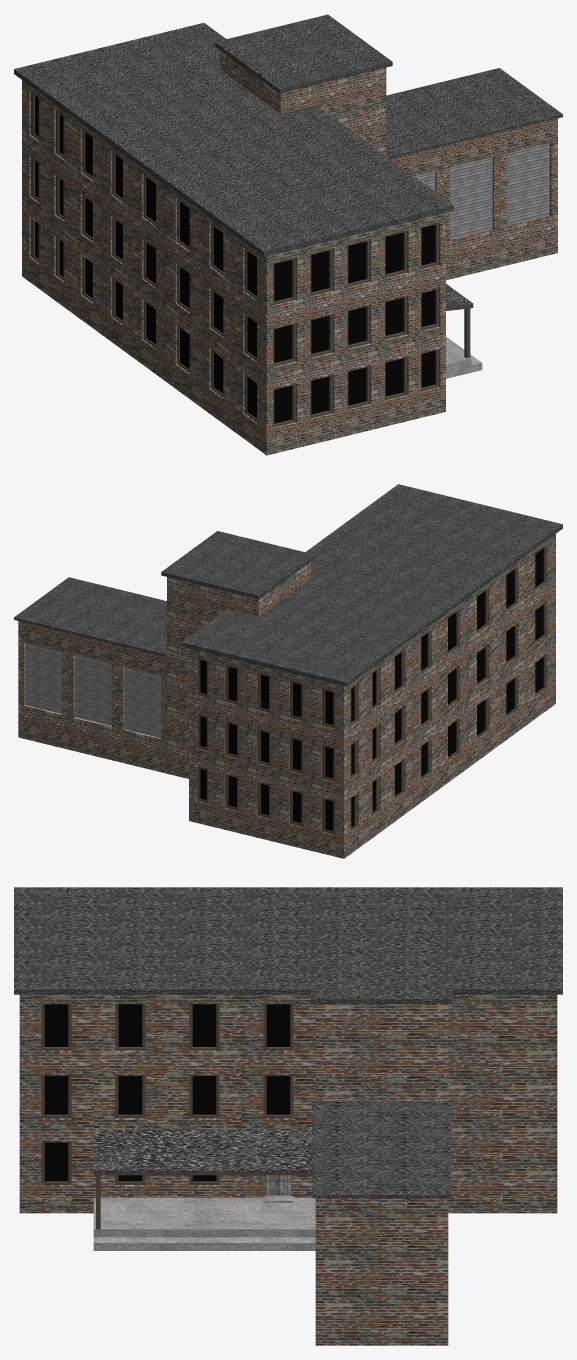
The picture shows the model from 3 angles, top to bottom: view 1: azimuth 30°, elevation 25°; view 2: azimuth 150°, elevation 25°; view 3: azimuth 270°, elevation 25°; orthographic projection. The views are drawn at different scales.
Visible parts, largest first — view 1: Factory Building 1; view 2: Factory Building 1; view 3: Factory Building 1.
Boxes of the visible parts, bbox=[...] form: Factory Building 1: bbox=[14, 14, 562, 455]; Factory Building 1: bbox=[14, 484, 562, 858]; Factory Building 1: bbox=[14, 887, 562, 1345].
Size of the model in its own units: 11.25 by 5.77 by 11.19.
7 materials, 6 textured.
